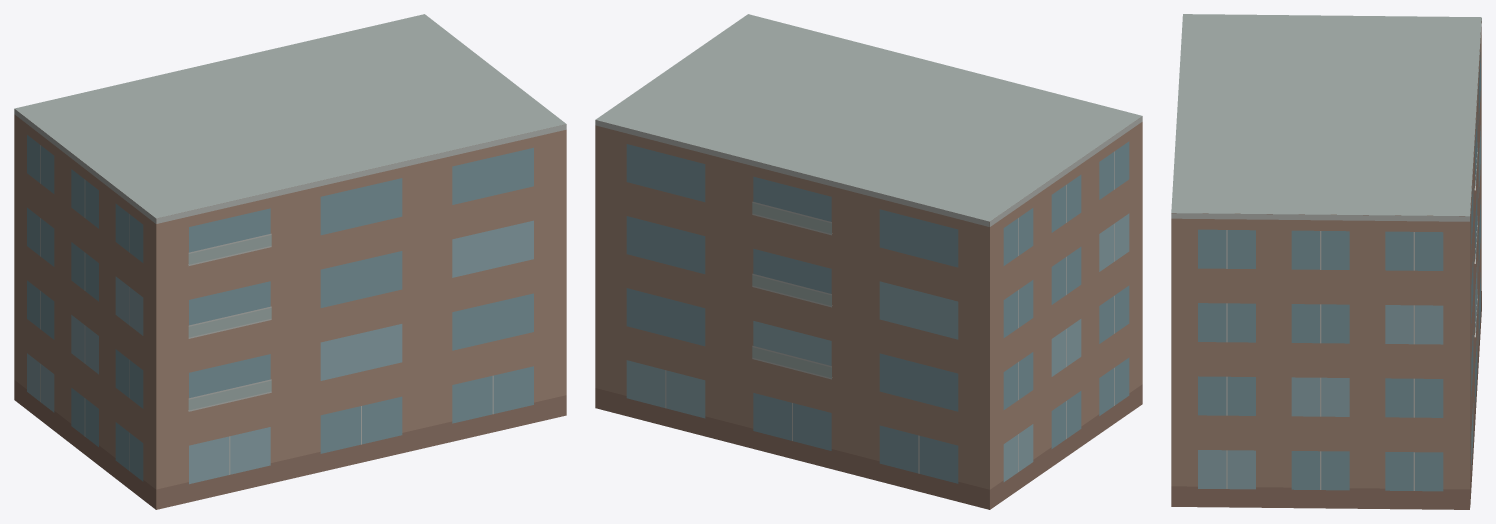
The model's file is survey-upis-32759907.glb.
3 renders of one model, left to right at view 1: azimuth 30°, elevation 25°; view 2: azimuth 150°, elevation 25°; view 3: azimuth 270°, elevation 25°, orthographic.
Parts seen in each view (by area): view 1: survey-upis-32759907.tmp; view 2: survey-upis-32759907.tmp; view 3: survey-upis-32759907.tmp.
Boxes of the visible parts, box(x1,y1,x2,y2) form: survey-upis-32759907.tmp: box(14, 14, 566, 509); survey-upis-32759907.tmp: box(595, 14, 1142, 509); survey-upis-32759907.tmp: box(1171, 14, 1481, 509).
Size of the model in its own units: 18.79 by 12.72 by 12.2.
